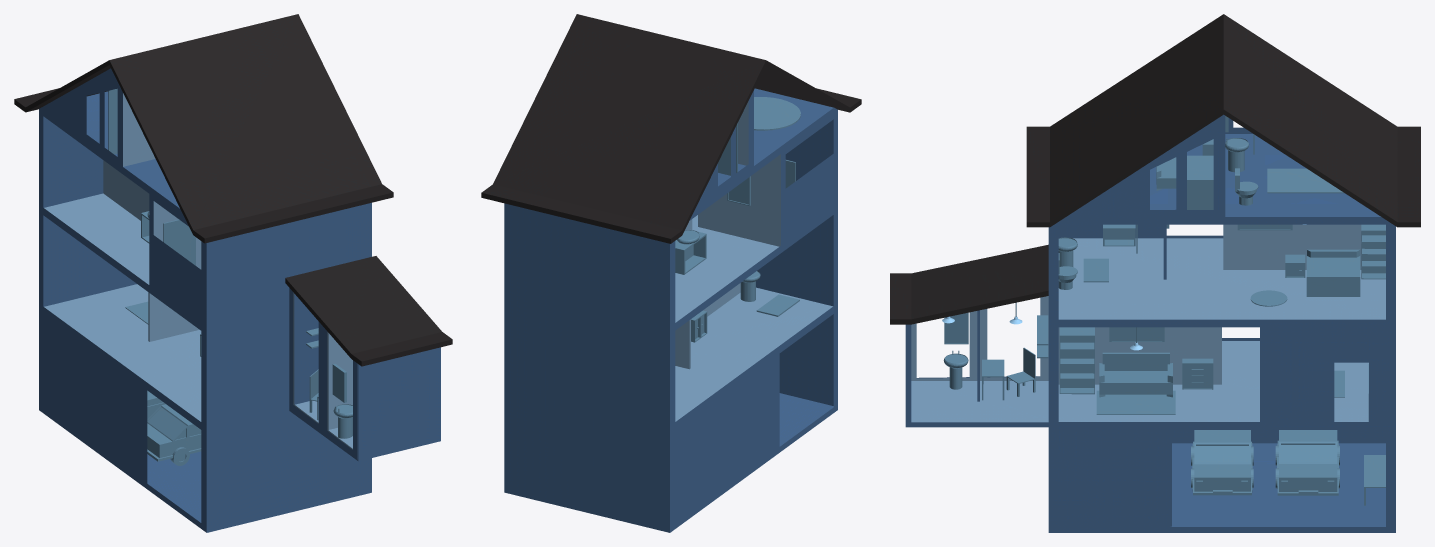
Rendered from house-updated-2-transformed.glb.
3 renders of one model, left to right at view 1: azimuth 30°, elevation 25°; view 2: azimuth 150°, elevation 25°; view 3: azimuth 270°, elevation 25°, orthographic. The views are drawn at different scales.
Visible parts, largest first — view 1: Grid.002; view 2: Grid.002; view 3: Grid.002.
Boxes of the visible parts, x1,y1,x2,y2 form: Grid.002: (14,14,452,532); Grid.002: (481,14,861,532); Grid.002: (890,14,1420,532).
Bounding box in the file's own units: 16 × 33.5 × 37.57.
2 materials, 2 textured.
